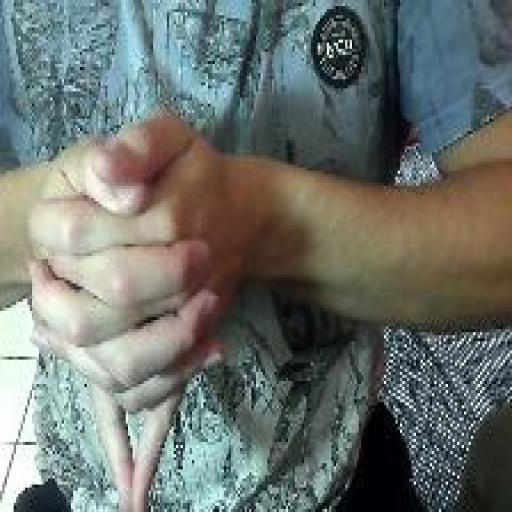Tatsu -dragon-: (26, 103, 229, 512)
